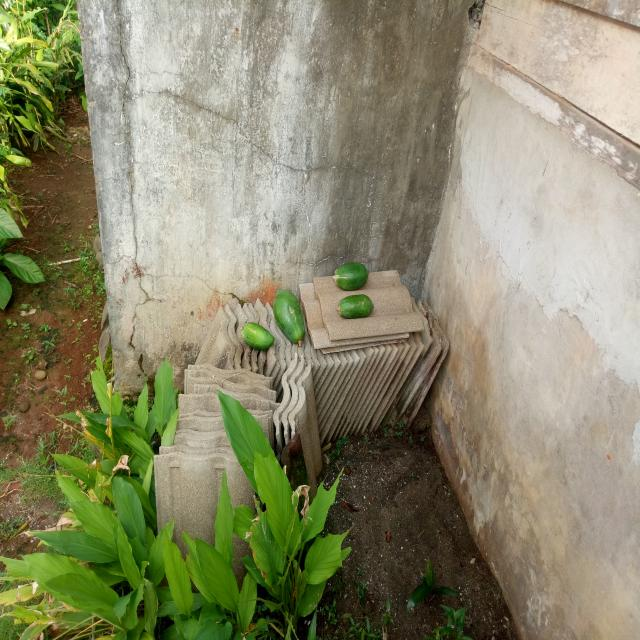Pepaya unrippen: (270, 286, 310, 347), (333, 287, 376, 330), (330, 250, 374, 291), (237, 323, 273, 352)
